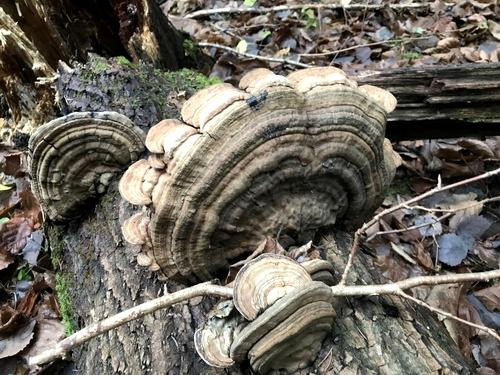Ganoderma - Fruit Body: (124, 65, 399, 253), (199, 256, 334, 369), (33, 110, 119, 216)
